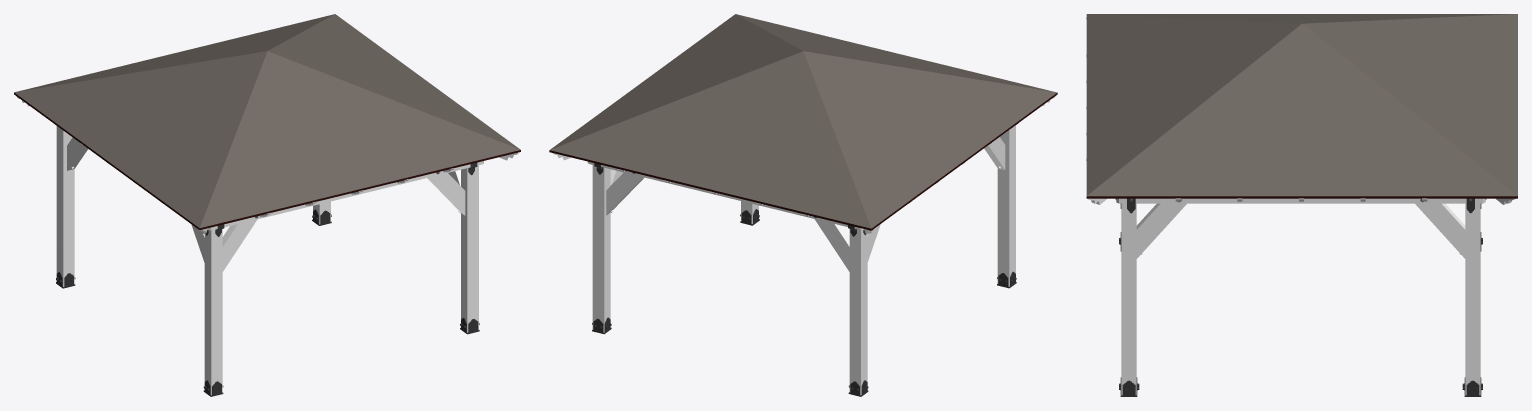
File: saratoga-14x14-3step.obj
3 views of the same model, side by side, from view 1: azimuth 30°, elevation 25°; view 2: azimuth 150°, elevation 25°; view 3: azimuth 270°, elevation 25° (orthographic). The views are drawn at different scales.
Visible parts, largest first — view 1: Mesh226 shingles roof Group1 Model, Mesh177 Group70 Component_92_4 Group1 Model, Mesh79 Group42 Component_92_2 Group1 Model, Mesh128 Group56 Component_92_3 Group1 Model, Mesh227 roof Group1 Model, Mesh75 Component_135_1 Group1 Model, Mesh217 Component_91_7 Component_92_4 Group1 Model, Mesh119 Component_91_3 Component_92_2 Group1 Model, Mesh172 Component_91_6 Component_92_3 Group1 Model; view 2: Mesh226 shingles roof Group1 Model, Mesh128 Group56 Component_92_3 Group1 Model, Mesh1 Group3 Component_92_1 Group2 Group1 Model, Mesh177 Group70 Component_92_4 Group1 Model, Mesh227 roof Group1 Model, Mesh168 Component_91_5 Component_92_3 Group1 Model, Mesh41 Component_91_1 Component_92_1 Group2 Group1 Model, Mesh77 Component_135_2 Group1 Model, Mesh221 Component_91_8 Component_92_4 Group1 Model; view 3: Mesh226 shingles roof Group1 Model, Mesh1 Group3 Component_92_1 Group2 Group1 Model, Mesh79 Group42 Component_92_2 Group1 Model, Mesh78 Component_134_2 Group1 Model, Mesh227 roof Group1 Model, Mesh123 Component_91_4 Component_92_2 Group1 Model, Mesh45 Component_91_2 Component_92_1 Group2 Group1 Model.
Boxes of the visible parts, box(x1,y1,x2,y2) form: Mesh226 shingles roof Group1 Model: box(14, 14, 520, 228); Mesh177 Group70 Component_92_4 Group1 Model: box(204, 229, 222, 395); Mesh79 Group42 Component_92_2 Group1 Model: box(461, 165, 478, 332); Mesh128 Group56 Component_92_3 Group1 Model: box(56, 126, 74, 286); Mesh227 roof Group1 Model: box(14, 92, 520, 230); Mesh75 Component_135_1 Group1 Model: box(207, 161, 483, 230); Mesh217 Component_91_7 Component_92_4 Group1 Model: box(222, 219, 257, 271); Mesh119 Component_91_3 Component_92_2 Group1 Model: box(427, 173, 465, 215); Mesh172 Component_91_6 Component_92_3 Group1 Model: box(67, 137, 87, 170); Mesh226 shingles roof Group1 Model: box(550, 14, 1056, 228); Mesh128 Group56 Component_92_3 Group1 Model: box(849, 229, 867, 395); Mesh1 Group3 Component_92_1 Group2 Group1 Model: box(592, 165, 610, 332); Mesh177 Group70 Component_92_4 Group1 Model: box(997, 125, 1015, 286); Mesh227 roof Group1 Model: box(549, 92, 1057, 230); Mesh168 Component_91_5 Component_92_3 Group1 Model: box(814, 219, 849, 271); Mesh41 Component_91_1 Component_92_1 Group2 Group1 Model: box(606, 172, 644, 215); Mesh77 Component_135_2 Group1 Model: box(587, 161, 863, 230); Mesh221 Component_91_8 Component_92_4 Group1 Model: box(984, 137, 1005, 170); Mesh226 shingles roof Group1 Model: box(1086, 14, 1517, 196); Mesh1 Group3 Component_92_1 Group2 Group1 Model: box(1465, 203, 1480, 395); Mesh79 Group42 Component_92_2 Group1 Model: box(1121, 203, 1136, 395); Mesh78 Component_134_2 Group1 Model: box(1126, 198, 1475, 203); Mesh227 roof Group1 Model: box(1086, 196, 1517, 198); Mesh123 Component_91_4 Component_92_2 Group1 Model: box(1136, 203, 1186, 258); Mesh45 Component_91_2 Component_92_1 Group2 Group1 Model: box(1415, 203, 1465, 258).
Bounding box in the file's own units: 168 × 128 × 168.
